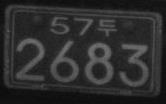2: (14, 37, 44, 81)
3: (119, 42, 149, 88)
5: (49, 15, 69, 35)
6: (49, 39, 79, 84)
7: (73, 16, 93, 36)
8: (84, 41, 114, 85)
두: (97, 18, 116, 36)
